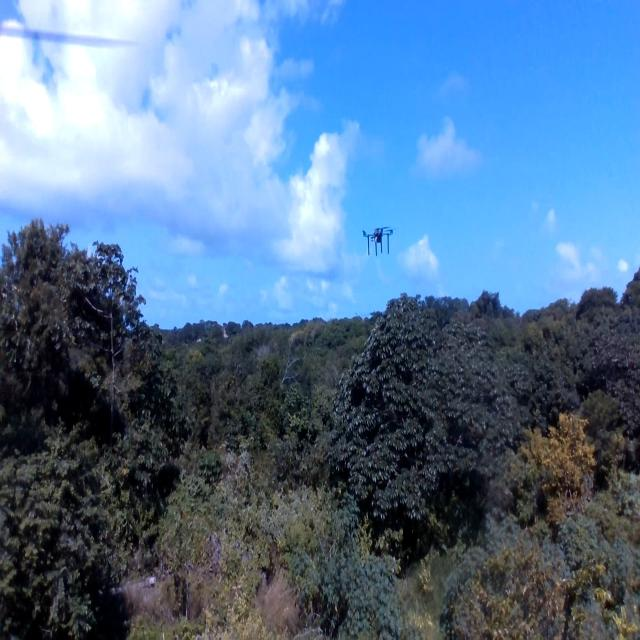-uav-: (356, 215, 408, 289)
